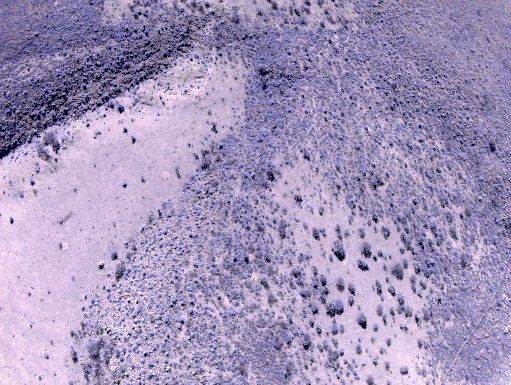agave: (142, 29, 150, 36), (129, 11, 138, 17), (178, 31, 185, 38), (95, 60, 103, 66), (105, 45, 112, 51), (32, 31, 39, 37), (87, 53, 94, 59), (90, 27, 98, 32), (82, 83, 88, 89), (113, 83, 119, 89), (39, 110, 46, 115), (284, 108, 291, 113), (35, 113, 41, 118), (132, 26, 137, 32), (259, 55, 264, 61), (250, 41, 255, 47), (41, 89, 48, 93), (76, 58, 80, 65), (287, 49, 291, 56), (52, 111, 57, 116), (294, 63, 299, 68), (217, 51, 222, 56), (156, 29, 160, 35), (268, 92, 272, 98), (125, 25, 129, 29)
